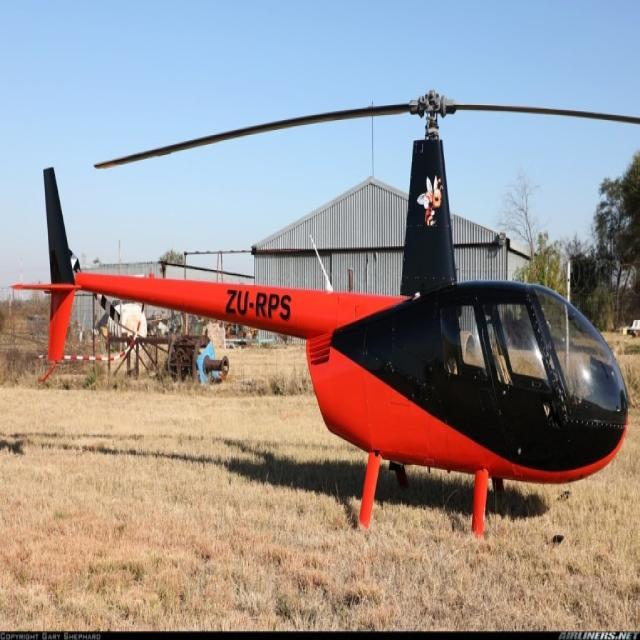CIV_HELO: (9, 90, 632, 536)
